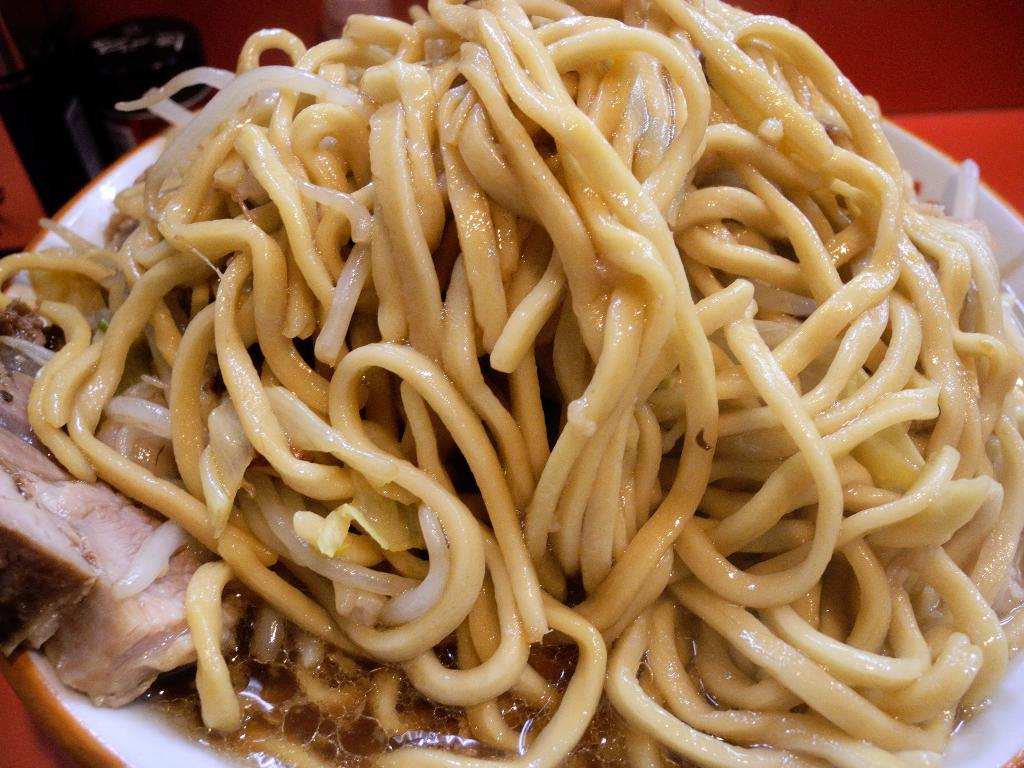pasta: (0, 1, 1014, 699)
